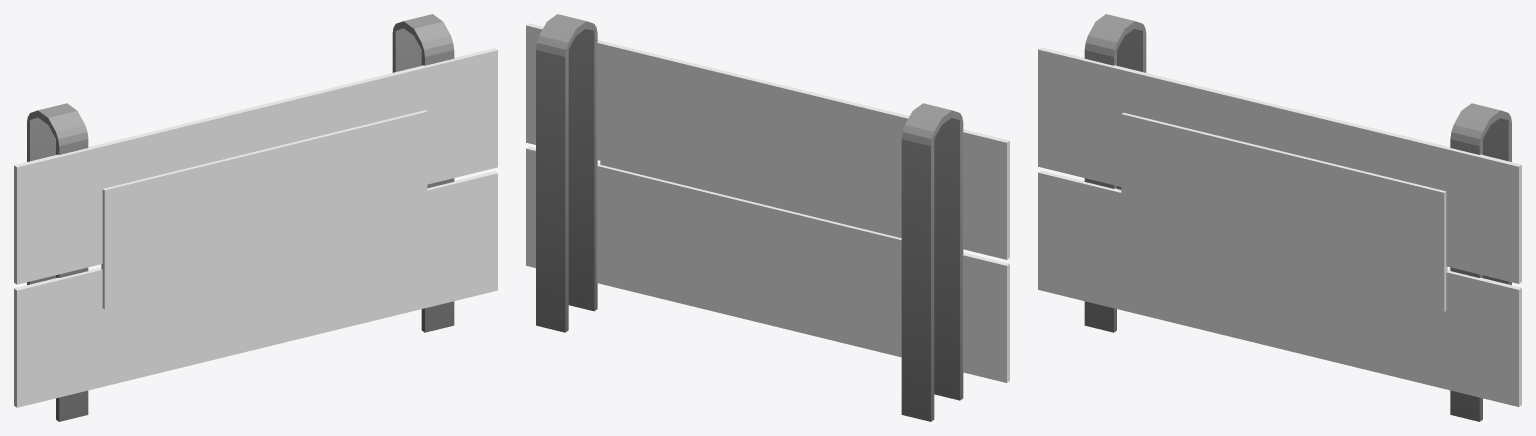
Rendered from ConstructionWarning.fbx.
The picture shows the model from 3 angles, left to right: view 1: azimuth 30°, elevation 25°; view 2: azimuth 150°, elevation 25°; view 3: azimuth 330°, elevation 25°; orthographic projection.
Parts seen in each view (by area): view 1: ConstructionWarning_LOD0; view 2: ConstructionWarning_LOD0; view 3: ConstructionWarning_LOD0.
Boxes of the visible parts, x1,y1,x2,y2 form: ConstructionWarning_LOD0: (14, 14, 497, 421); ConstructionWarning_LOD0: (526, 14, 1009, 421); ConstructionWarning_LOD0: (1038, 14, 1521, 421).
Size of what is drawn, in the model's own units: 499 by 294 by 65.81.
